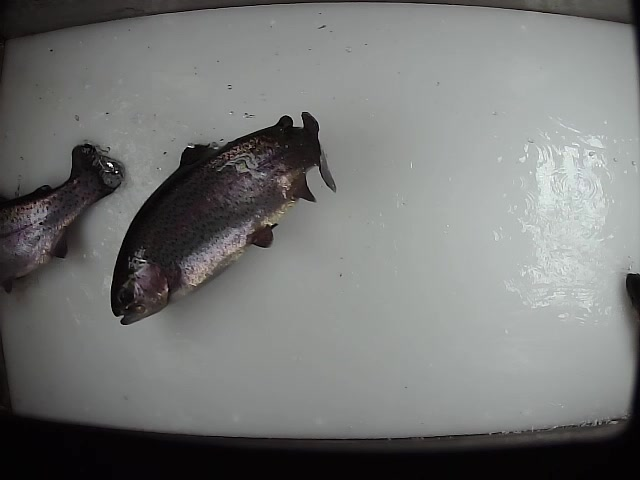fish: (110, 107, 338, 327), (1, 140, 125, 295)
